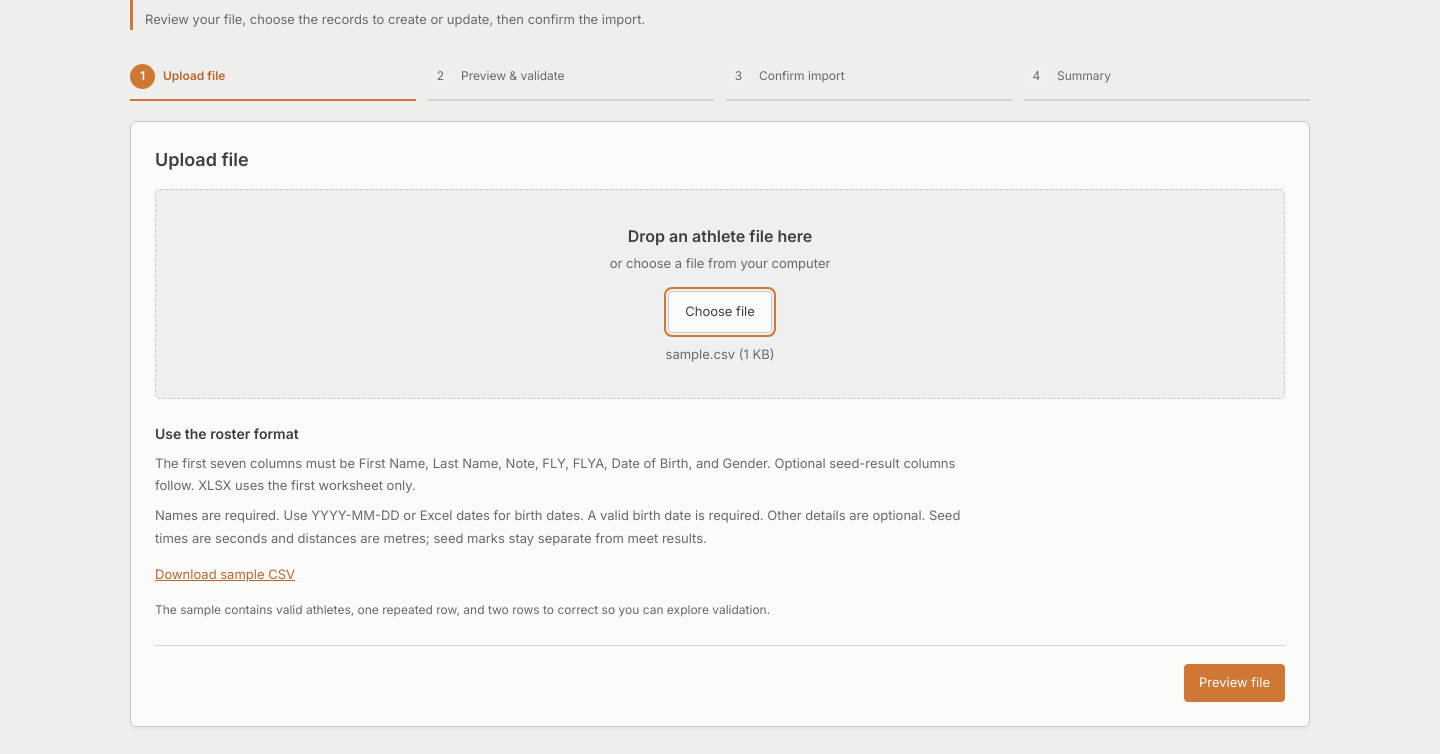
Test: Import Athletes › previews without confirming or writing records
This screenshot has width=1440, height=754.
Earlier steps of the test are not shown.
(page scrolled)
Click the button "Preview file": (1234, 683) [1184,664,1285,702]
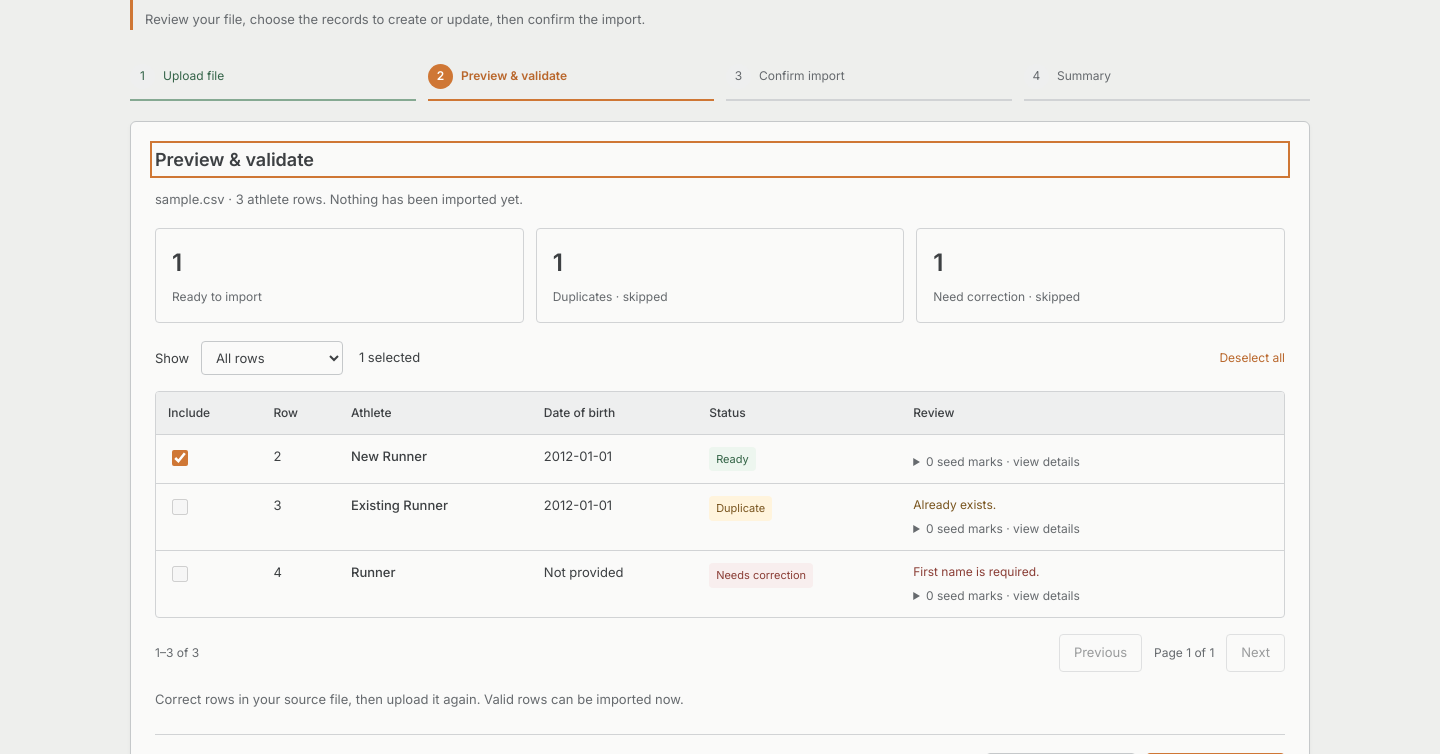
Expected: the element named "Import preview" is shown, [155,391,1285,618]
Expected: the checkbox named "Include row 2" is checked, [172,450,188,466]
Expected: the checkbox named "Include row 3" is disabled, [172,499,188,515]
